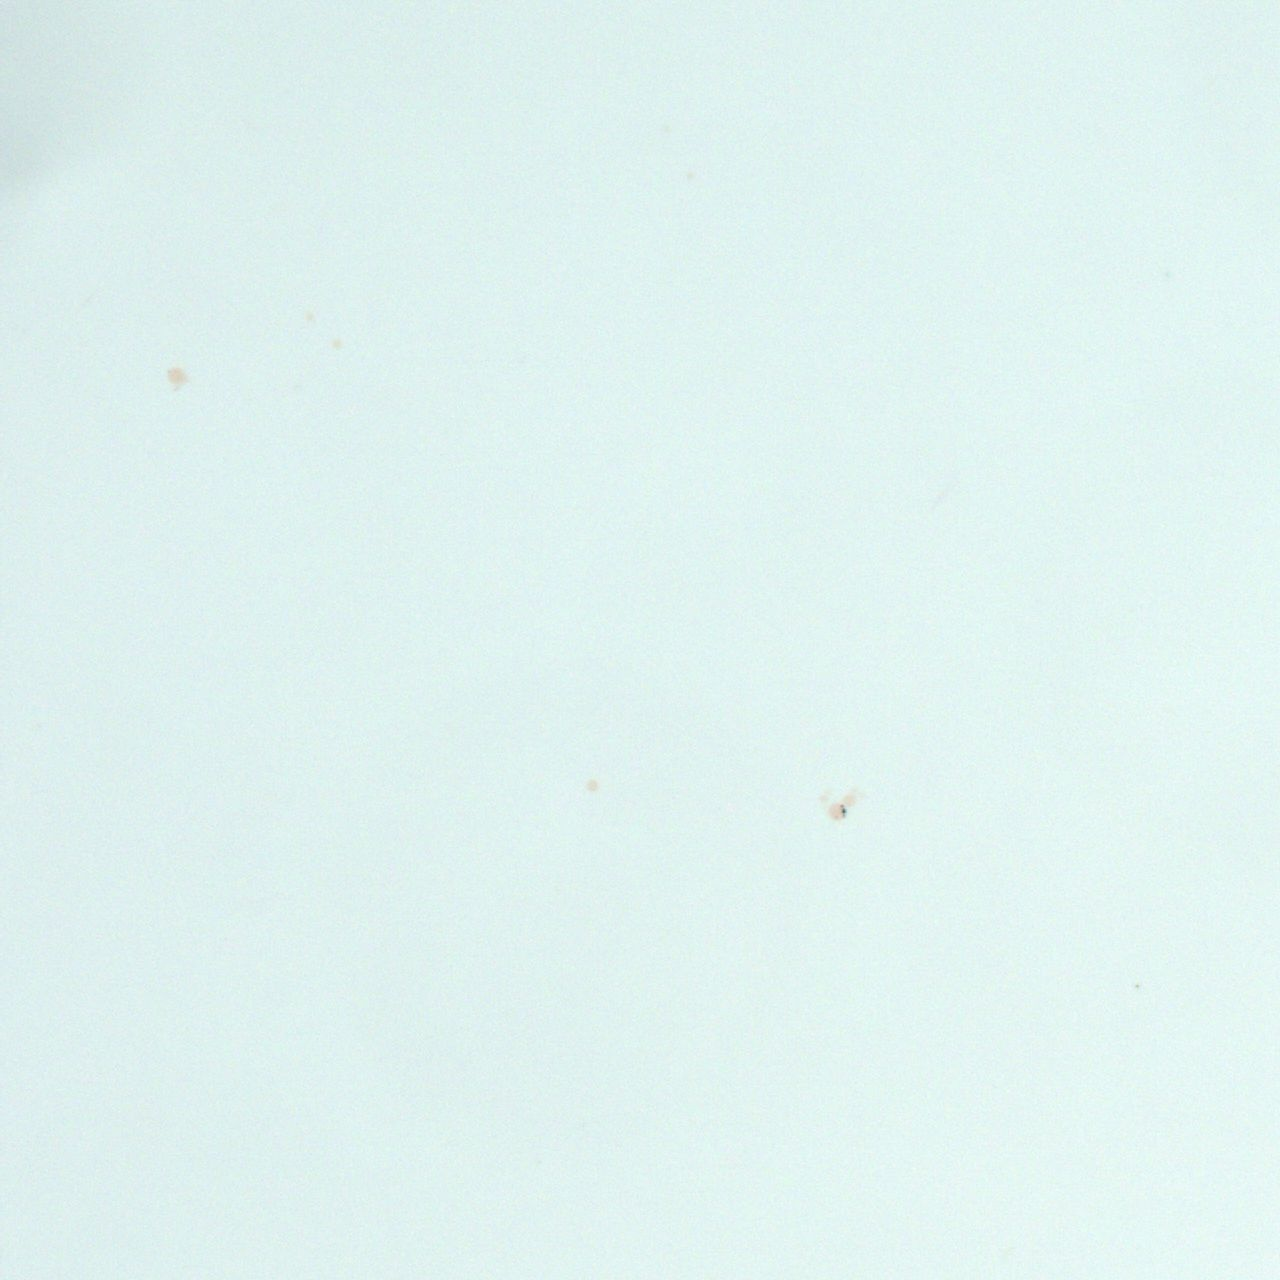dust: (166, 368, 189, 389), (829, 803, 845, 821), (845, 792, 856, 806), (585, 778, 595, 791), (305, 313, 315, 324), (332, 339, 342, 348), (817, 794, 828, 802)
